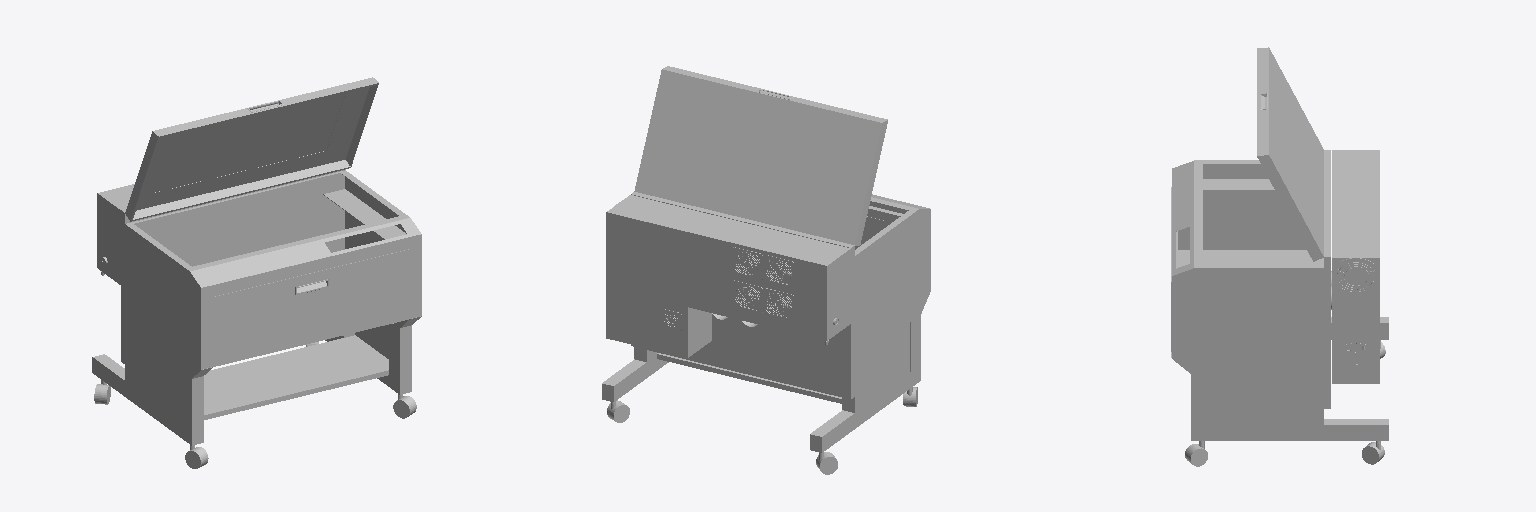
Rendered from plsSolid.obj.
The picture shows the model from 3 angles: view 1: azimuth 30°, elevation 25°; view 2: azimuth 150°, elevation 25°; view 3: azimuth 270°, elevation 25°; orthographic projection.
Visible parts, largest first — view 1: object_28, object_10, object_27, object_3, object_1, object_11, object_7, object_20; view 2: object_7, object_10, object_1, object_3, object_28, object_11, object_27, object_19, object_4, object_18, object_5; view 3: object_28, object_7, object_10, object_3, object_20, object_1, object_6.
Part boxes in pixels (left/top/right/bottom): object_28: left=125, top=170, right=421, bottom=369; object_10: left=92, top=169, right=421, bottom=445; object_27: left=214, top=249, right=408, bottom=366; object_3: left=125, top=77, right=378, bottom=221; object_1: left=155, top=94, right=344, bottom=191; object_11: left=136, top=339, right=180, bottom=420; object_7: left=97, top=184, right=134, bottom=284; object_20: left=355, top=325, right=388, bottom=358; object_7: left=606, top=195, right=850, bottom=357; object_10: left=602, top=192, right=930, bottom=452; object_1: left=664, top=90, right=853, bottom=216; object_3: left=634, top=66, right=887, bottom=245; object_28: left=855, top=194, right=930, bottom=345; object_11: left=865, top=323, right=909, bottom=404; object_27: left=855, top=206, right=902, bottom=249; object_19: left=733, top=280, right=762, bottom=312; object_4: left=733, top=247, right=762, bottom=279; object_18: left=764, top=288, right=793, bottom=320; object_5: left=764, top=255, right=793, bottom=287; object_28: left=1172, top=160, right=1323, bottom=357; object_7: left=1332, top=150, right=1379, bottom=383; object_10: left=1171, top=150, right=1388, bottom=440; object_3: left=1257, top=47, right=1323, bottom=261; object_20: left=1213, top=374, right=1302, bottom=424; object_1: left=1276, top=73, right=1313, bottom=225; object_6: left=1334, top=258, right=1376, bottom=294.
Size of the model in its own units: 46.3 by 59.39 by 37.81.